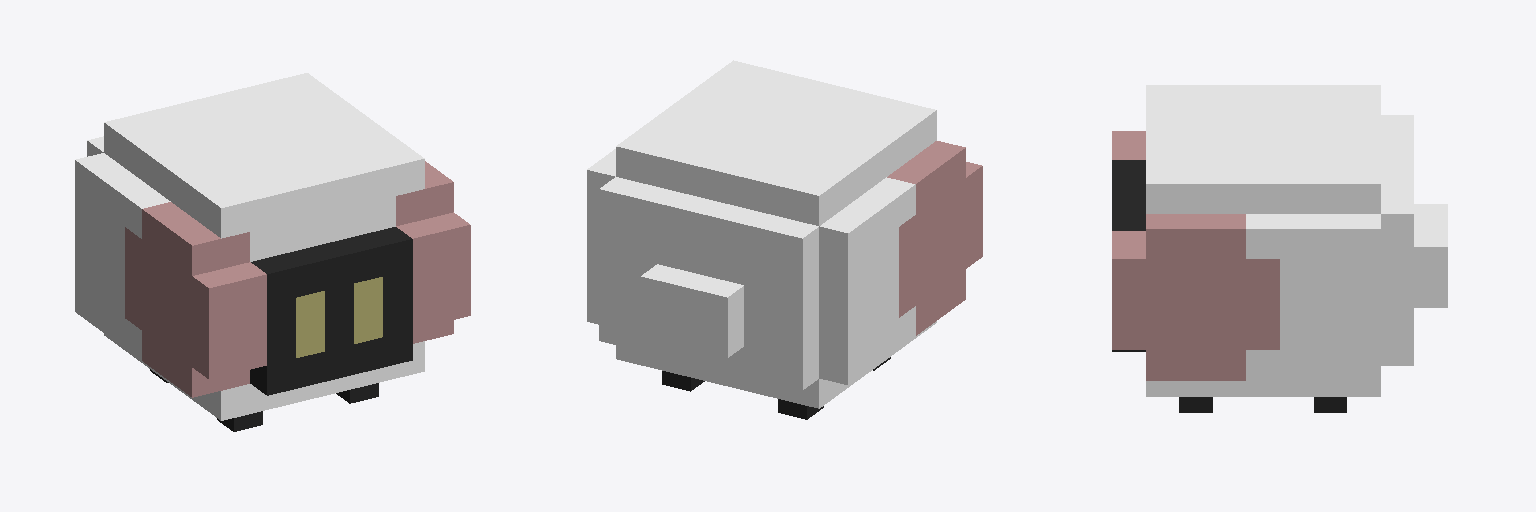
3 renders of one model, left to right at view 1: azimuth 30°, elevation 25°; view 2: azimuth 150°, elevation 25°; view 3: azimuth 270°, elevation 25°, orthographic.
Visible parts, largest first — view 1: object 1; view 2: object 1; view 3: object 1.
Part boxes in pixels (left/top/right/bottom): object 1: left=75, top=73, right=470, bottom=431; object 1: left=587, top=60, right=982, bottom=419; object 1: left=1112, top=85, right=1447, bottom=412.
Size of the model in its own units: 0.9 by 0.8 by 1.
1 materials, 1 textured.